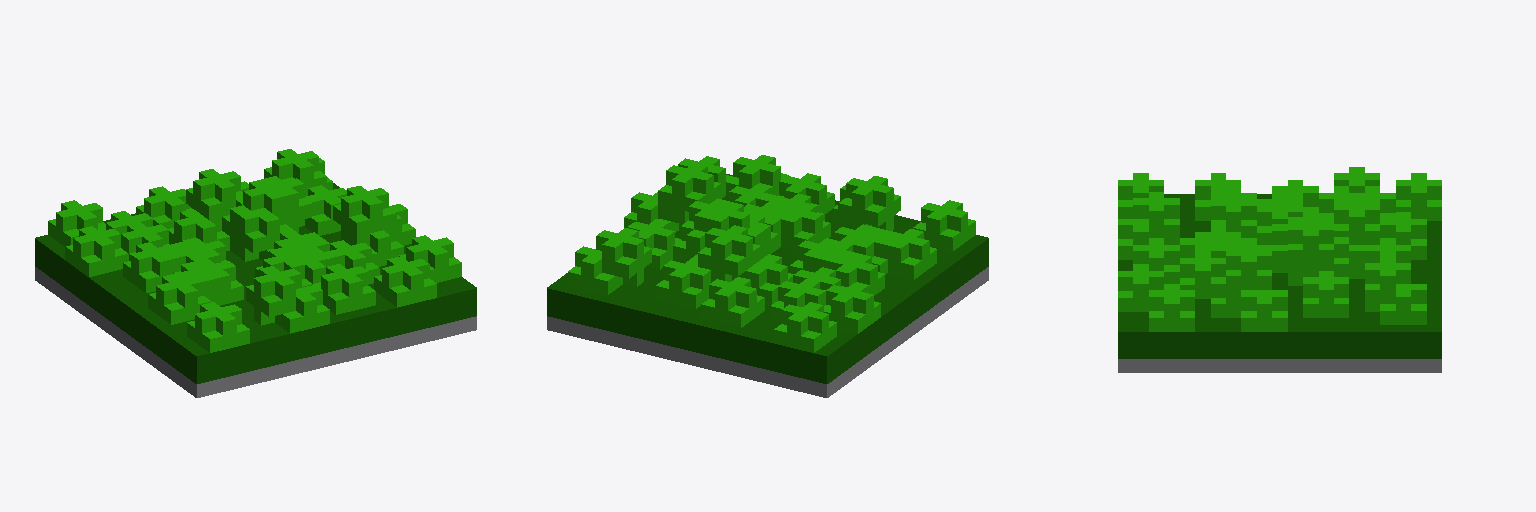
3 renders of one model, left to right at view 1: azimuth 30°, elevation 25°; view 2: azimuth 150°, elevation 25°; view 3: azimuth 270°, elevation 25°, orthographic.
Size of the model in its own units: 21 by 7 by 21.
Materials: 1 (1 with a texture image).